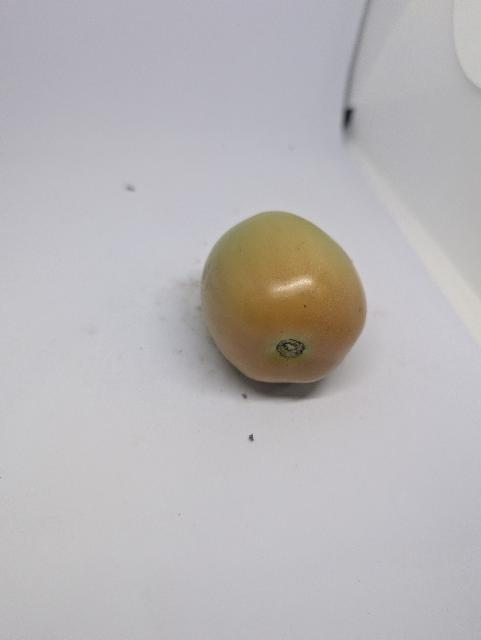breaker: (201, 211, 367, 382)
